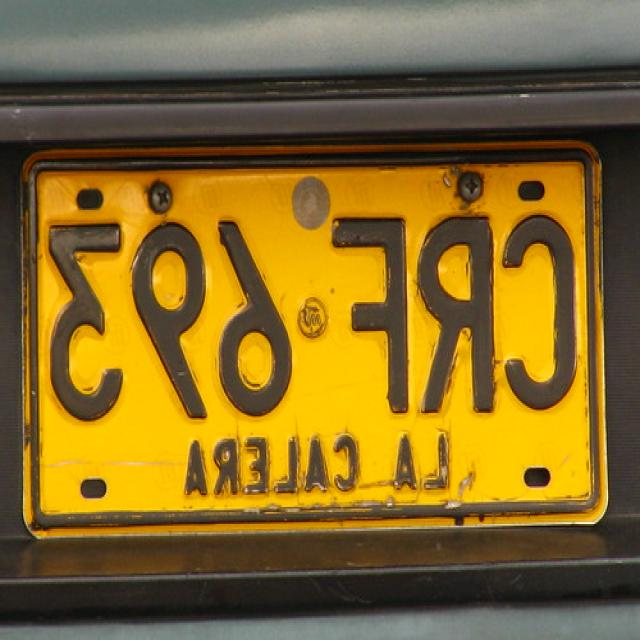placas: (31, 153, 586, 427)
